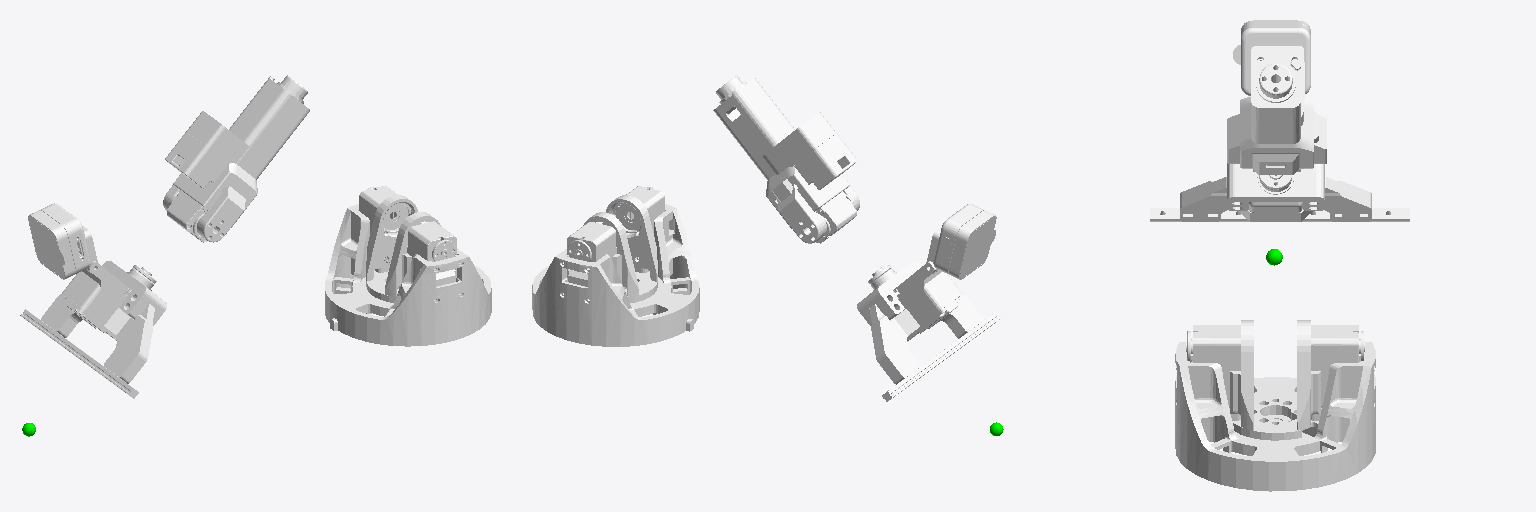
robot.urdf — alicia_D_v5_4:
<?xml version="1.0" encoding="utf-8" ?>
<robot name="alicia_D_v5_4">
    <mujoco>
        <compiler meshdir="../meshes" discardvisual="false" />
        <contact>
            <exclude body1="base_link" body2="Link1" />
            <exclude body1="Link1" body2="Link2" />
            <exclude body1="Link2" body2="Link3" />
            <exclude body1="Link3" body2="Link4" />
            <exclude body1="Link4" body2="Link5" />
            <exclude body1="Link5" body2="Link6" />
            <exclude body1="Link6" body2="Link7" />
            <exclude body1="Link6" body2="Link8" />
        </contact>
    </mujoco>
    <link name="base_link">
        <visual>
            <origin xyz="0 0 0" rpy="0 0 0" />
            <geometry>
                <mesh filename="package://alicia_d_descriptions/meshes/base_link.STL" />
            </geometry>
            <material name="">
                <color rgba="1 1 1 1" />
            </material>
        </visual>
        <collision>
            <origin xyz="0 0 0" rpy="0 0 0" />
            <geometry>
                <mesh filename="package://alicia_d_descriptions/meshes/base_link.STL" />
            </geometry>
        </collision>
        <inertial>
            <mass value="0.1" />
            <origin xyz="0 0 0" rpy="0 0 0" />
            <inertia ixx="0.03" iyy="0.03" izz="0.03" ixy="0.0" ixz="0.0" iyz="0.0" />
        </inertial>
    </link>
    <link name="Link1">
        <inertial>
            <origin xyz="-6.25858197295685E-05 7.92213122987762E-05 -0.0125707541315971" rpy="0 0 0" />
            <mass value="0.203075737500143" />
            <inertia ixx="0.000235905198022555" ixy="7.61837858539045E-07" ixz="-2.9280595447193E-07" iyy="0.000131461412426022" iyz="-9.88206643610389E-07" izz="0.000304852104532108" />
        </inertial>
        <visual>
            <origin xyz="0 0 0" rpy="0 0 0" />
            <geometry>
                <mesh filename="package://alicia_d_descriptions/meshes/Link1.STL" />
            </geometry>
            <material name="">
                <color rgba="1 1 1 1" />
            </material>
        </visual>
        <collision>
            <origin xyz="0 0 0" rpy="0 0 0" />
            <geometry>
                <mesh filename="package://alicia_d_descriptions/meshes/Link1.STL" />
            </geometry>
        </collision>
    </link>
    <joint name="Joint1" type="revolute">
        <origin xyz="0 0 0.1445" rpy="0 0 0" />
        <parent link="base_link" />
        <child link="Link1" />
        <axis xyz="0 0 1" />
        <limit lower="-2.16" upper="2.16" effort="12" velocity="5" />
    </joint>
    <link name="Link2">
        <inertial>
            <origin xyz="0.152520863780152 0.00121050175643325 -2.60950688970463E-05" rpy="0 0 0" />
            <mass value="0.228750683078605" />
            <inertia ixx="0.000128107393781261" ixy="-1.13054976540084E-06" ixz="-3.12979772835143E-06" iyy="0.000222403637398375" iyz="1.86391232896856E-08" izz="0.000138515787941709" />
        </inertial>
        <visual>
            <origin xyz="0 0 0" rpy="0 0 0" />
            <geometry>
                <mesh filename="package://alicia_d_descriptions/meshes/Link2.STL" />
            </geometry>
            <material name="">
                <color rgba="1 1 1 1" />
            </material>
        </visual>
        <collision>
            <origin xyz="0 0 0" rpy="0 0 0" />
            <geometry>
                <mesh filename="package://alicia_d_descriptions/meshes/Link2.STL" />
            </geometry>
        </collision>
    </link>
    <joint name="Joint2" type="revolute">
        <origin xyz="0 0 0.025106" rpy="1.5708 -1.5708 0" />
        <parent link="Link1" />
        <child link="Link2" />
        <axis xyz="0 0 -1" />
        <limit lower="-1.57" upper="1.57" effort="12" velocity="5" />
    </joint>
    <link name="Link3">
        <inertial>
            <origin xyz="0.05912098865161 -0.00292884026418549 -0.000206870084897278" rpy="0 0 0" />
            <mass value="0.0902084989642731" />
            <inertia ixx="2.95841837376625E-05" ixy="2.18437703523349E-06" ixz="5.1039314115162E-06" iyy="7.14586965989716E-05" iyz="-3.76178023735153E-07" izz="7.59377961316667E-05" />
        </inertial>
        <visual>
            <origin xyz="0 0 0" rpy="0 0 0" />
            <geometry>
                <mesh filename="package://alicia_d_descriptions/meshes/Link3.STL" />
            </geometry>
            <material name="">
                <color rgba="1 1 1 1" />
            </material>
        </visual>
        <collision>
            <origin xyz="0 0 0" rpy="0 0 0" />
            <geometry>
                <mesh filename="package://alicia_d_descriptions/meshes/Link3.STL" />
            </geometry>
        </collision>
    </link>
    <joint name="Joint3" type="revolute">
        <origin xyz="0.22367 0.022494 -5E-05" rpy="0 0 2.3562" />
        <parent link="Link2" />
        <child link="Link3" />
        <axis xyz="0 0 -1" />
        <limit lower="-0.5" upper="2.35619" effort="12" velocity="5" />
    </joint>
    <link name="Link4">
        <inertial>
            <origin xyz="-0.000205267063245973 0.000325243129580035 0.0643235983472444" rpy="0 0 0" />
            <mass value="0.0791974889780253" />
            <inertia ixx="2.47725339125505E-05" ixy="3.55587182995024E-10" ixz="7.3334971760673E-08" iyy="2.46627995216068E-05" iyz="-3.46992272423732E-07" izz="1.52344176742998E-05" />
        </inertial>
        <visual>
            <origin xyz="0 0 0" rpy="0 0 0" />
            <geometry>
                <mesh filename="package://alicia_d_descriptions/meshes/Link4.STL" />
            </geometry>
            <material name="">
                <color rgba="1 1 1 1" />
            </material>
        </visual>
        <collision>
            <origin xyz="0 0 0" rpy="0 0 0" />
            <geometry>
                <mesh filename="package://alicia_d_descriptions/meshes/Link4.STL" />
            </geometry>
        </collision>
    </link>
    <joint name="Joint4" type="revolute">
        <origin xyz="0.0988 0.00211 -0.0001" rpy="1.5708 0 1.5708" />
        <parent link="Link3" />
        <child link="Link4" />
        <axis xyz="0 0 -1" />
        <limit lower="-3.14" upper="3.14" effort="12" velocity="5" />
    </joint>
    <link name="Link5">
        <inertial>
            <origin xyz="-0.0151916000802023 -0.035577609744867 0.00100363196557324" rpy="0 0 0" />
            <mass value="0.0472226666291309" />
            <inertia ixx="1.20278315375537E-05" ixy="-1.17970471503373E-06" ixz="-1.02456210599242E-07" iyy="1.88455470481329E-05" iyz="-1.61484723405352E-07" izz="1.40563866814419E-05" />
        </inertial>
        <visual>
            <origin xyz="0 0 0" rpy="0 0 0" />
            <geometry>
                <mesh filename="package://alicia_d_descriptions/meshes/Link5.STL" />
            </geometry>
            <material name="">
                <color rgba="1 1 1 1" />
            </material>
        </visual>
        <collision>
            <origin xyz="0 0 0" rpy="0 0 0" />
            <geometry>
                <mesh filename="package://alicia_d_descriptions/meshes/Link5.STL" />
            </geometry>
        </collision>
    </link>
    <joint name="Joint5" type="revolute">
        <origin xyz="0 -0.0007 0.12011" rpy="-1.5708 0 0" />
        <parent link="Link4" />
        <child link="Link5" />
        <axis xyz="0 0 -1" />
        <limit lower="-1.57" upper="1.5" effort="12" velocity="5" />
    </joint>
    <link name="Link6">
        <inertial>
            <origin xyz="-2.29000106100052E-08 -6.06077605290467E-09 -0.00146273730918529" rpy="0 0 0" />
            <mass value="0.000754043064008528" />
            <inertia ixx="1.92362324543726E-08" ixy="2.02419408834135E-13" ixz="1.54264012087565E-14" iyy="1.92356438139941E-08" iyz="3.66078536787572E-15" izz="3.70116466604047E-08" />
        </inertial>
        <visual>
            <origin xyz="0 0 0" rpy="0 0 0" />
            <geometry>
                <mesh filename="package://alicia_d_descriptions/meshes/Link6.STL" />
            </geometry>
            <material name="">
                <color rgba="1 1 1 1" />
            </material>
        </visual>
        <collision>
            <origin xyz="0 0 0" rpy="0 0 0" />
            <geometry>
                <mesh filename="package://alicia_d_descriptions/meshes/Link6.STL" />
            </geometry>
        </collision>
    </link>
    <joint name="Joint6" type="revolute">
        <origin xyz="-0.0038938 -0.0573 0.0008" rpy="1.5708 0 0" />
        <parent link="Link5" />
        <child link="Link6" />
        <axis xyz="0 0 -1" />
        <limit lower="-3.14" upper="3.14" effort="12" velocity="5" />
    </joint>
    <link name="Grasp_base">
        <inertial>
            <origin xyz="-0.01841113801577 0.000862734870750302 0.0339710264842798" rpy="0 0 0" />
            <mass value="0.13604884360545" />
            <inertia ixx="7.27853781685838E-05" ixy="3.41504362452082E-08" ixz="1.60963274946906E-06" iyy="2.99495582533924E-05" iyz="9.99190740884026E-07" izz="7.95564628246971E-05" />
        </inertial>
        <visual>
            <origin xyz="0 0 0" rpy="0 0 0" />
            <geometry>
                <mesh filename="package://alicia_d_descriptions/meshes/Grasp_base.STL" />
            </geometry>
            <material name="">
                <color rgba="1 1 1 1" />
            </material>
        </visual>
        <collision>
            <origin xyz="0 0 0" rpy="0 0 0" />
            <geometry>
                <mesh filename="package://alicia_d_descriptions/meshes/Grasp_base.STL" />
            </geometry>
        </collision>
    </link>
    <joint name="Joint6_to_gripper_base" type="fixed">
        <origin xyz="0 0 0" rpy="0 0 0" />
        <parent link="Link6" />
        <child link="Grasp_base" />
        <axis xyz="0 0 0" />
    </joint>
    <link name="Link7">
        <inertial>
            <origin xyz="0.00110740859468716 -0.0505406087264605 0.00928374528946711" rpy="0 0 0" />
            <mass value="0.0243492837152759" />
            <inertia ixx="9.48475810350875E-06" ixy="1.12616534990615E-06" ixz="-1.29347870071083E-07" iyy="4.30364201605636E-06" iyz="1.0784812114242E-06" izz="1.21997143402446E-05" />
        </inertial>
        <visual>
            <origin xyz="0 0 0" rpy="0 0 0" />
            <geometry>
                <mesh filename="package://alicia_d_descriptions/meshes/Link7.STL" />
            </geometry>
            <material name="">
                <color rgba="1 1 1 1" />
            </material>
        </visual>
        <collision>
            <origin xyz="0 0 0" rpy="0 0 0" />
            <geometry>
                <mesh filename="package://alicia_d_descriptions/meshes/Link7.STL" />
            </geometry>
        </collision>
    </link>
    <link name="Link8">
        <inertial>
            <origin xyz="0.00109597192005223 0.0498868509472224 0.0118634588904307" rpy="0 0 0" />
            <mass value="0.0243228050977196" />
            <inertia ixx="9.45357028936119E-06" ixy="-1.11057133705082E-06" ixz="-1.85645517199125E-07" iyy="4.42974962436958E-06" iyz="-1.4734381267566E-06" izz="1.20341513240267E-05" />
        </inertial>
        <visual>
            <origin xyz="0 0 0" rpy="0 0 0" />
            <geometry>
                <mesh filename="package://alicia_d_descriptions/meshes/Link8.STL" />
            </geometry>
            <material name="">
                <color rgba="1 1 1 1" />
            </material>
        </visual>
        <collision>
            <origin xyz="0 0 0" rpy="0 0 0" />
            <geometry>
                <mesh filename="package://alicia_d_descriptions/meshes/Link8.STL" />
            </geometry>
        </collision>
    </link>
    <joint name="right_finger" type="prismatic">
        <origin xyz="0.00275 0.0028325 0.13768" rpy="-1.5965 0 0" />
        <parent link="Grasp_base" />
        <child link="Link8" />
        <axis xyz="0 0 1" />
        <limit lower="0" upper="0.025" effort="5" velocity="10" />
    </joint>
    <joint name="left_finger" type="prismatic">
        <origin xyz="0.00275 -0.0011661 0.13779" rpy="1.5451 0 0" />
        <parent link="Grasp_base" />
        <child link="Link7" />
        <axis xyz="0 0 -1" />
        <limit lower="-0.025" upper="0" effort="5" velocity="10" />
        <mimic joint="right_finger" multiplier="-1" offset="0" />
    </joint>
    <link name="tool0">
        <visual>
            <origin xyz="0 0 0" rpy="0 0 0" />
            <geometry>
                <sphere radius="0.005" />
                <!-- 定义一个半径为0.02米的小球体 -->
            </geometry>
            <material name="green_virtual_sphere_material">
                <!-- 可以给材质起个名字 -->
                <color rgba="0 1 0 1" />
                <!-- 绿色 (R G B A)，A为1表示不透明 -->
            </material>
        </visual>
    </link>
    <joint name="Grasp2tool" type="fixed">
        <origin xyz="0.00275 0.0008332 0.13779" rpy="0 0 0" />
        <parent link="Grasp_base" />
        <child link="tool0" />
        <axis xyz="0 0 0" />
    </joint>
    <transmission name="trans_Joint1">
        <type>transmission_interface/SimpleTransmission</type>
        <joint name="Joint1">
            <hardwareInterface>hardware_interface/EffortJointInterface</hardwareInterface>
        </joint>
        <actuator name="Joint1_motor">
            <hardwareInterface>hardware_interface/EffortJointInterface</hardwareInterface>
            <mechanicalReduction>1</mechanicalReduction>
        </actuator>
    </transmission>
    <transmission name="trans_Joint2">
        <type>transmission_interface/SimpleTransmission</type>
        <joint name="Joint2">
            <hardwareInterface>hardware_interface/EffortJointInterface</hardwareInterface>
        </joint>
        <actuator name="Joint2_motor">
            <hardwareInterface>hardware_interface/EffortJointInterface</hardwareInterface>
            <mechanicalReduction>1</mechanicalReduction>
        </actuator>
    </transmission>
    <transmission name="trans_Joint3">
        <type>transmission_interface/SimpleTransmission</type>
        <joint name="Joint3">
            <hardwareInterface>hardware_interface/EffortJointInterface</hardwareInterface>
        </joint>
        <actuator name="Joint3_motor">
            <hardwareInterface>hardware_interface/EffortJointInterface</hardwareInterface>
            <mechanicalReduction>1</mechanicalReduction>
        </actuator>
    </transmission>
    <transmission name="trans_Joint4">
        <type>transmission_interface/SimpleTransmission</type>
        <joint name="Joint4">
            <hardwareInterface>hardware_interface/EffortJointInterface</hardwareInterface>
        </joint>
        <actuator name="Joint4_motor">
            <hardwareInterface>hardware_interface/EffortJointInterface</hardwareInterface>
            <mechanicalReduction>1</mechanicalReduction>
        </actuator>
    </transmission>
    <transmission name="trans_Joint5">
        <type>transmission_interface/SimpleTransmission</type>
        <joint name="Joint5">
            <hardwareInterface>hardware_interface/EffortJointInterface</hardwareInterface>
        </joint>
        <actuator name="Joint5_motor">
            <hardwareInterface>hardware_interface/EffortJointInterface</hardwareInterface>
            <mechanicalReduction>1</mechanicalReduction>
        </actuator>
    </transmission>
    <transmission name="trans_Joint6">
        <type>transmission_interface/SimpleTransmission</type>
        <joint name="Joint6">
            <hardwareInterface>hardware_interface/EffortJointInterface</hardwareInterface>
        </joint>
        <actuator name="Joint6_motor">
            <hardwareInterface>hardware_interface/EffortJointInterface</hardwareInterface>
            <mechanicalReduction>1</mechanicalReduction>
        </actuator>
    </transmission>
    <transmission name="trans_right_finger">
        <type>transmission_interface/SimpleTransmission</type>
        <joint name="right_finger">
            <hardwareInterface>hardware_interface/EffortJointInterface</hardwareInterface>
        </joint>
        <actuator name="right_finger_motor">
            <hardwareInterface>hardware_interface/EffortJointInterface</hardwareInterface>
            <mechanicalReduction>1</mechanicalReduction>
        </actuator>
    </transmission>
    <transmission name="trans_left_finger">
        <type>transmission_interface/SimpleTransmission</type>
        <joint name="left_finger">
            <hardwareInterface>hardware_interface/EffortJointInterface</hardwareInterface>
        </joint>
        <actuator name="left_finger_motor">
            <hardwareInterface>hardware_interface/EffortJointInterface</hardwareInterface>
            <mechanicalReduction>1</mechanicalReduction>
        </actuator>
    </transmission>
    <gazebo>
        <plugin name="gazebo_ros_control" filename="libgazebo_ros_control.so">
            <robotNamespace>/</robotNamespace>
        </plugin>
    </gazebo>
</robot>

--- Facts derived from the render (not from the file) ---
Views: 3 orthographic renders of the robot side by side, from view 1: azimuth 30°, elevation 25°; view 2: azimuth 150°, elevation 25°; view 3: azimuth 270°, elevation 25°.
Robot: alicia_D_v5_4 — 11 links, 10 joints (6 revolute, 2 prismatic, 2 fixed); root link base_link; default pose: every joint at zero.
Visible links, largest first — view 1: Link1, Grasp_base, Link4, Link5; view 2: Link1, Grasp_base, Link4, Link5; view 3: Link1, Grasp_base, Link4, Link5.
Link boxes in pixels (box(x1,y1,x2,y2)): Link1: box(325, 186, 491, 346); Grasp_base: box(20, 203, 166, 398); Link4: box(167, 75, 309, 242); Link5: box(163, 111, 249, 242); Link1: box(532, 186, 699, 346); Grasp_base: box(857, 204, 1000, 401); Link4: box(713, 76, 856, 243); Link5: box(761, 112, 859, 243); Link1: box(1175, 320, 1375, 491); Grasp_base: box(1150, 20, 1409, 221); Link4: box(1240, 60, 1318, 174); Link5: box(1227, 46, 1326, 163).
Size in the robot's own frame: 0.3794 by 0.155 by 0.2334 metres.
5 mesh visuals loaded from 10 distinct referenced files (5 binary STL); not drawn: 5 (reference not matched to a file when rendering).
